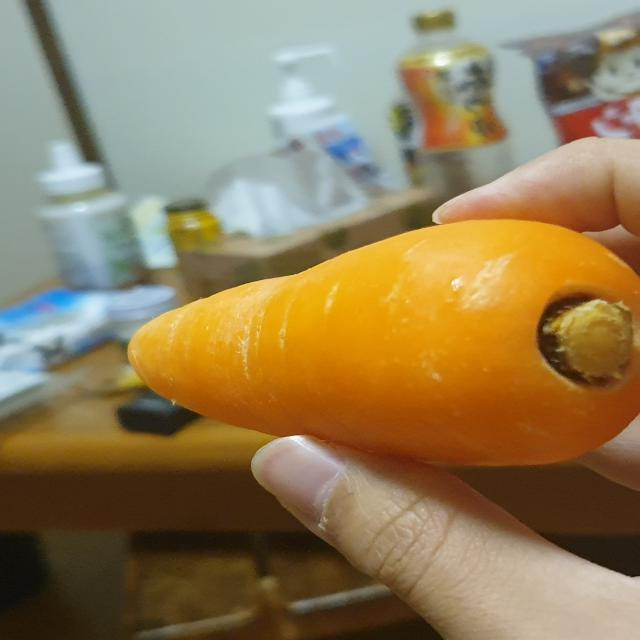carrot: (117, 208, 640, 476)
